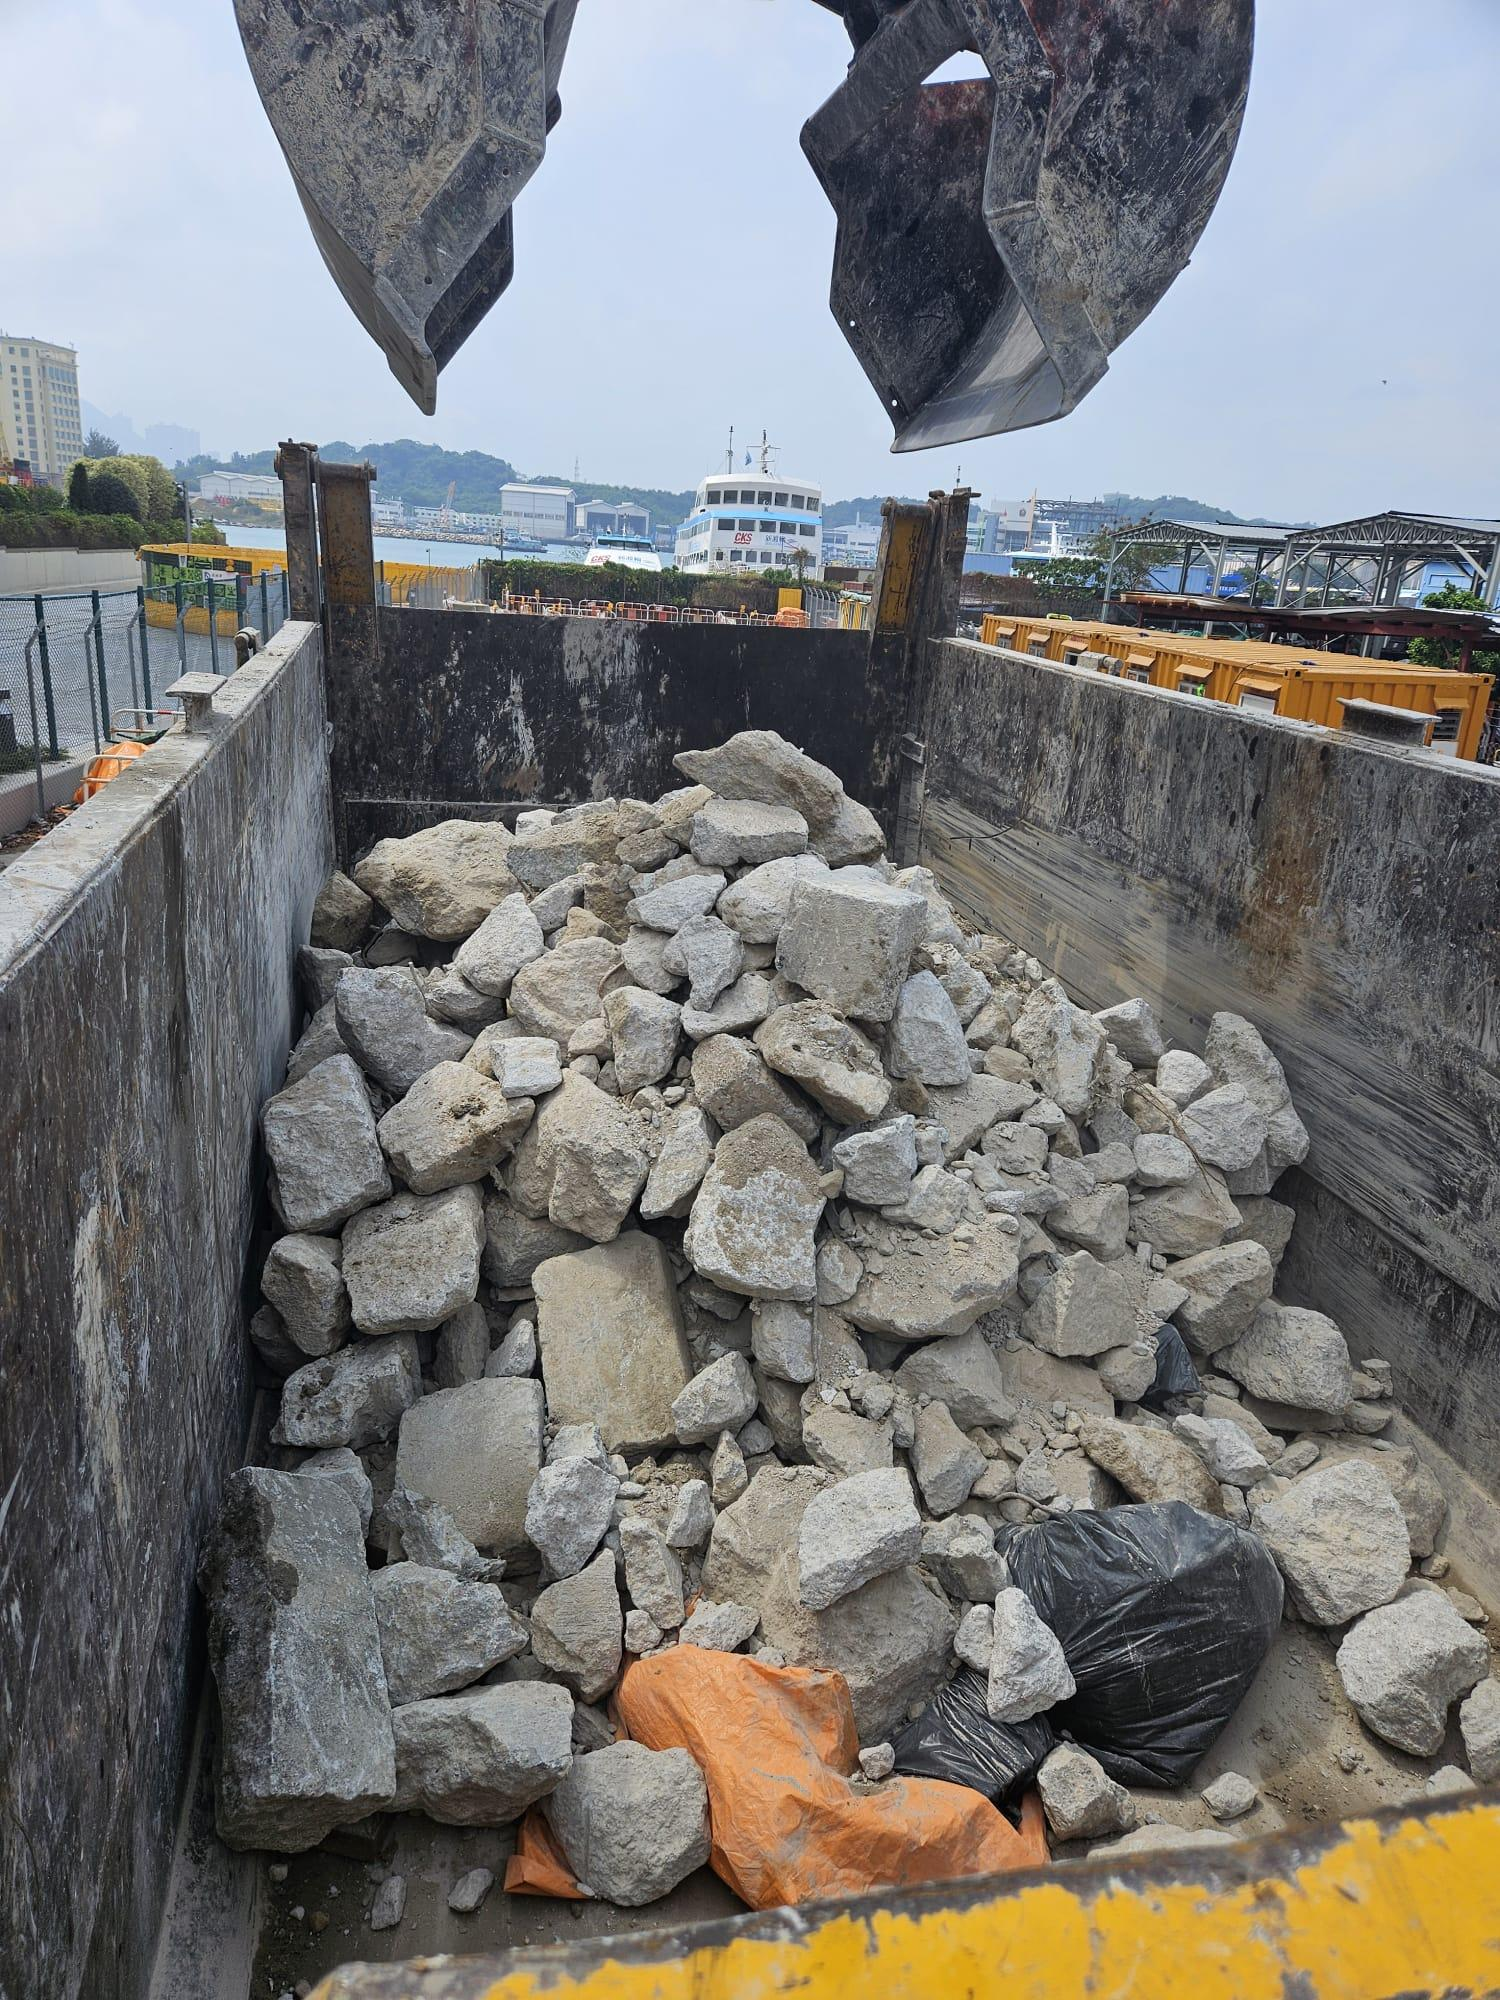stone: (200, 727, 1495, 1913), (797, 0, 1254, 453), (231, 0, 578, 415), (197, 1462, 399, 1853), (544, 1736, 712, 1906), (1334, 1576, 1490, 1757)
